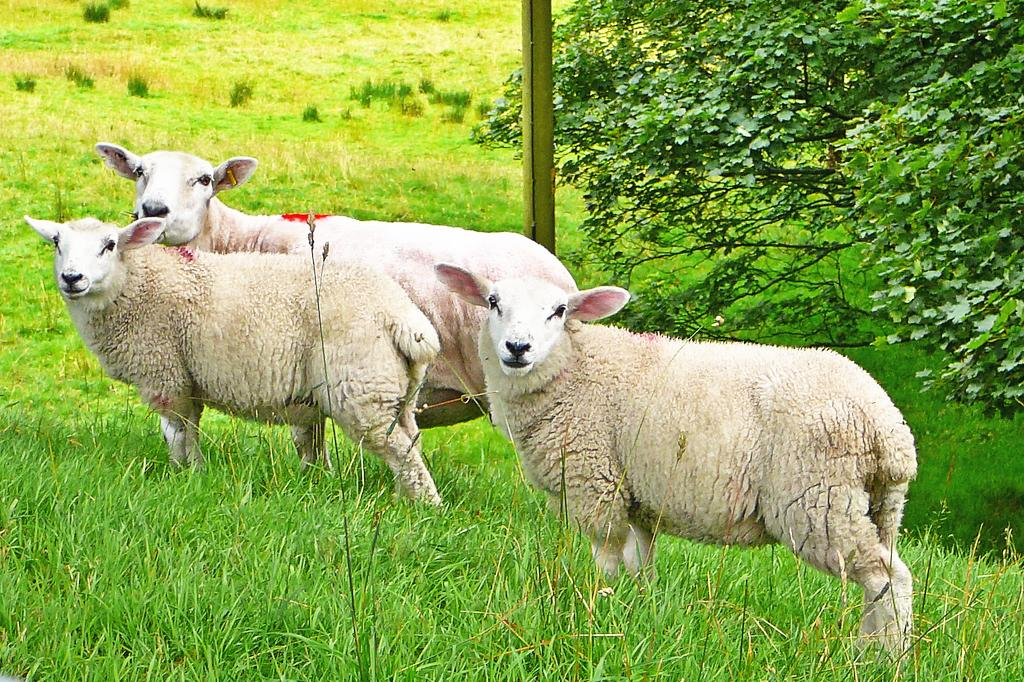Sheep: (432, 261, 914, 653), (92, 140, 578, 472), (20, 213, 442, 512)
